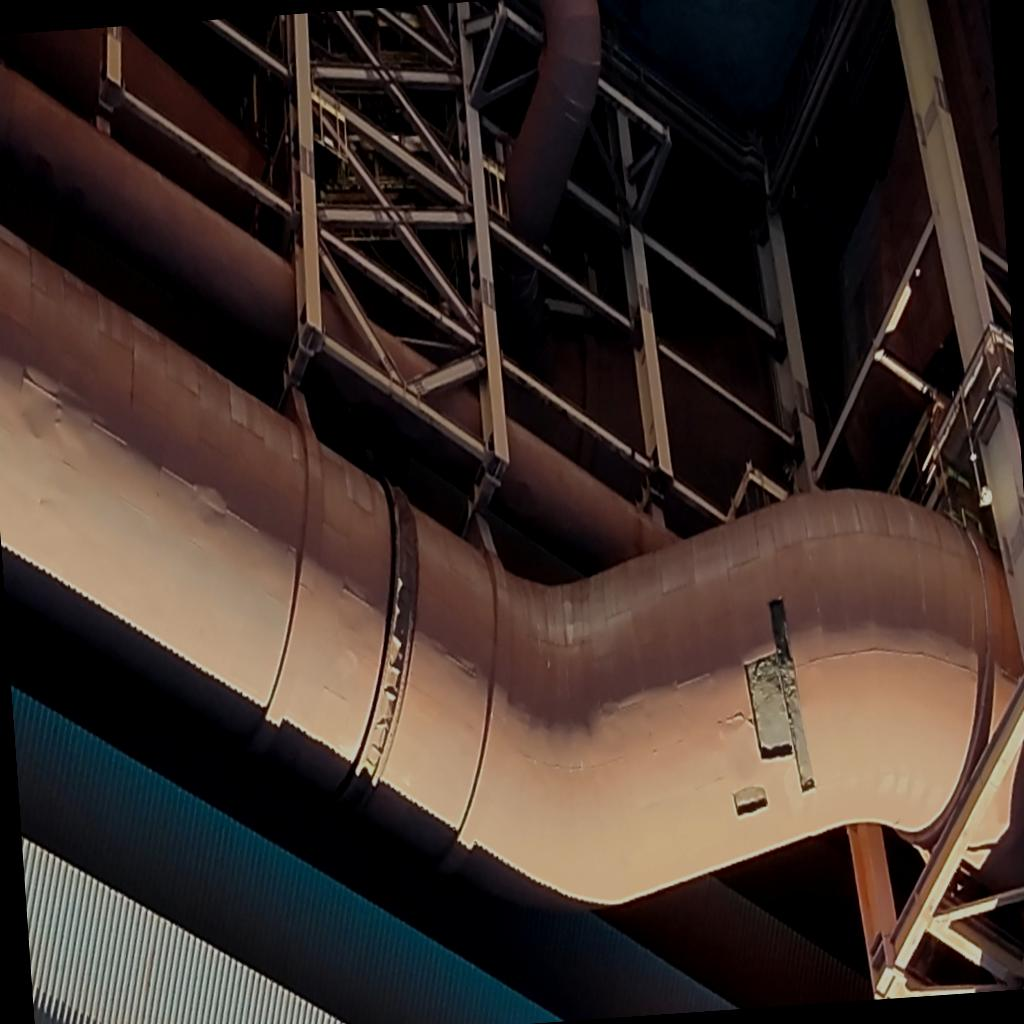Failures: (739, 598, 818, 800), (734, 789, 768, 818)
